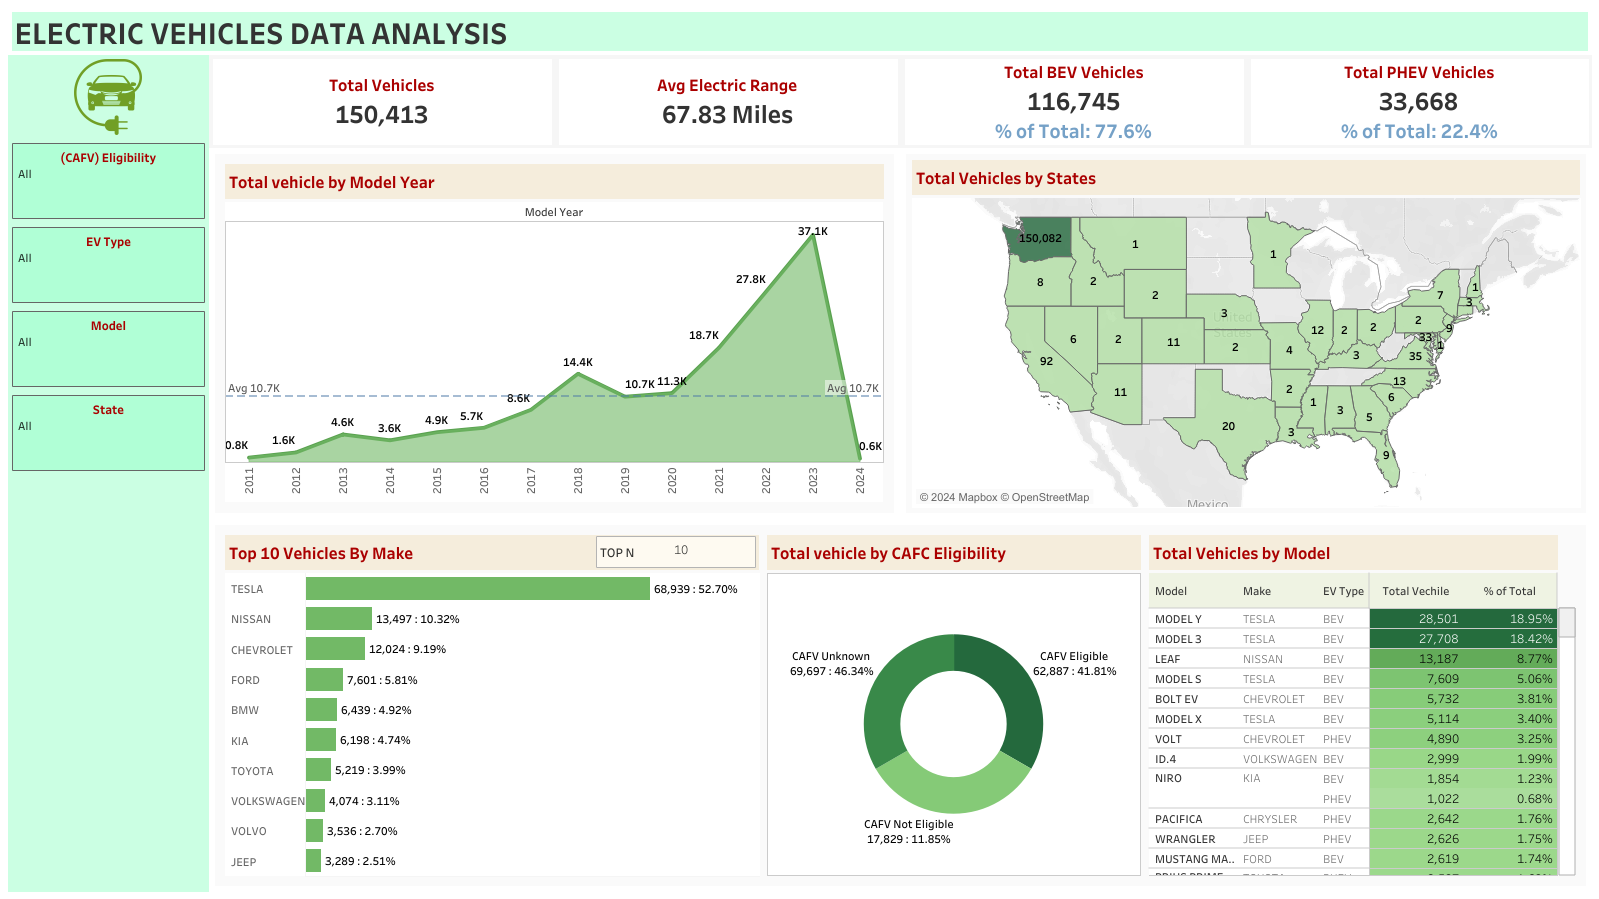

What the dashboard file says about the page in this screenshot:
{"tool":"tableau","page":{"name":"Dashboard 1","canvas":[1600,900],"ordinal":0},"visuals":[{"type":"title","box":[8,8,1584,47]},{"type":"image","param":"C:/Users/Lenovo/Downloads/vecteezy_ev-car-png-graphic-clipart-design_23258328.pn","box":[8,55,201,84]},{"type":"worksheet","title":"Total Vehicle","mark":"Automatic","box":[209,55,346,93]},{"type":"worksheet","title":"Avg electric Range","mark":"Automatic","box":[555,55,346,93]},{"type":"worksheet","title":"Total BEV Vehicle","mark":"Automatic","box":[901,55,346,93]},{"type":"worksheet","title":"Total PHEV Vehicles","mark":"Automatic","box":[1247,55,345,93]},{"type":"filter","title":"Total vehicle by Model Year","param":"[federated.1qibn1u1omjpt41fo6h150nwkk9m].[none:Clean Alternative Fuel Vehicle (C","box":[8,139,201,84]},{"type":"worksheet","title":"Total Vehicles by States","mark":"Automatic","box":[900.4,148,691.6,371]},{"type":"worksheet","title":"Total vehicle by Model Year","mark":"Area","rows":["Calculation_267119781991235584","Calculation_267119781991235584"],"cols":["Model Year"],"box":[220.9,160,667.5,347]},{"type":"filter","title":"Total vehicle by Model Year","param":"[federated.1qibn1u1omjpt41fo6h150nwkk9m].[none:Electric Vehicle Type:nk]","box":[8,223,201,84]},{"type":"filter","title":"Total vehicle by Model Year","param":"[federated.1qibn1u1omjpt41fo6h150nwkk9m].[none:Model:nk]","box":[8,307,201,84]},{"type":"filter","title":"Total vehicle by Model Year","param":"[federated.1qibn1u1omjpt41fo6h150nwkk9m].[none:State:nk]","box":[8,391,201,84]},{"type":"blank","box":[8,475,201,84]},{"type":"worksheet","title":"Top 10 Vehicles By Make","mark":"Automatic","rows":["Make"],"cols":["Calculation_267119781991235584"],"box":[220.9,531,542,349]},{"type":"worksheet","title":"Total vehicle by CAFC Eligibility","mark":"Pie","rows":["Calculation_635007576938946565","Calculation_635007576938946565"],"box":[762.9,531,382.1,349]},{"type":"worksheet","title":"Total Vehicles by Model","mark":"Square","rows":["Model","Make","Electric Vehicle Type"],"box":[1145,531,435,349]},{"type":"parameter","param":"[Parameters].[Parameter 1]","box":[596,536,160,32]},{"type":"blank","box":[8,559,201,84]},{"type":"blank","box":[8,643,201,83]},{"type":"blank","box":[8,726,201,83]},{"type":"blank","box":[8,809,201,83]}]}

Visuals, with their boxes in screenshot pixels (x1, y1, x2, y2), scaled from the page's 1600x900 canvas onto the 1599x899 screenshot:
title: locate(8, 8, 1591, 55)
image: locate(8, 55, 209, 139)
"Total Vehicle" worksheet: locate(209, 55, 555, 148)
"Avg electric Range" worksheet: locate(555, 55, 900, 148)
"Total BEV Vehicle" worksheet: locate(900, 55, 1246, 148)
"Total PHEV Vehicles" worksheet: locate(1246, 55, 1591, 148)
"Total vehicle by Model Year" filter: locate(8, 139, 209, 223)
"Total Vehicles by States" worksheet: locate(900, 148, 1591, 518)
"Total vehicle by Model Year" worksheet (Area marks): locate(221, 160, 888, 506)
"Total vehicle by Model Year" filter: locate(8, 223, 209, 307)
"Total vehicle by Model Year" filter: locate(8, 307, 209, 391)
"Total vehicle by Model Year" filter: locate(8, 391, 209, 474)
blank: locate(8, 474, 209, 558)
"Top 10 Vehicles By Make" worksheet: locate(221, 530, 762, 879)
"Total vehicle by CAFC Eligibility" worksheet (Pie marks): locate(762, 530, 1144, 879)
"Total Vehicles by Model" worksheet (Square marks): locate(1144, 530, 1579, 879)
parameter: locate(596, 535, 756, 567)
blank: locate(8, 558, 209, 642)
blank: locate(8, 642, 209, 725)
blank: locate(8, 725, 209, 808)
blank: locate(8, 808, 209, 891)
